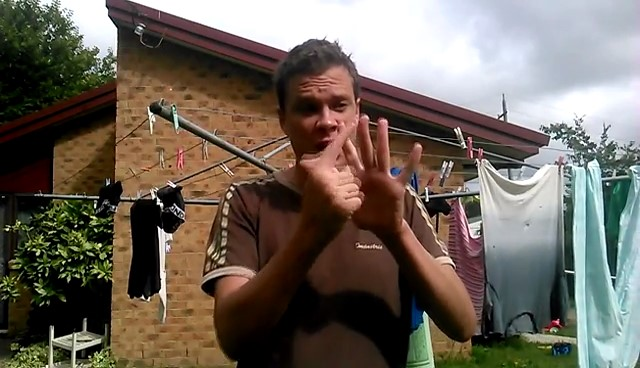I: (278, 115, 429, 241)
